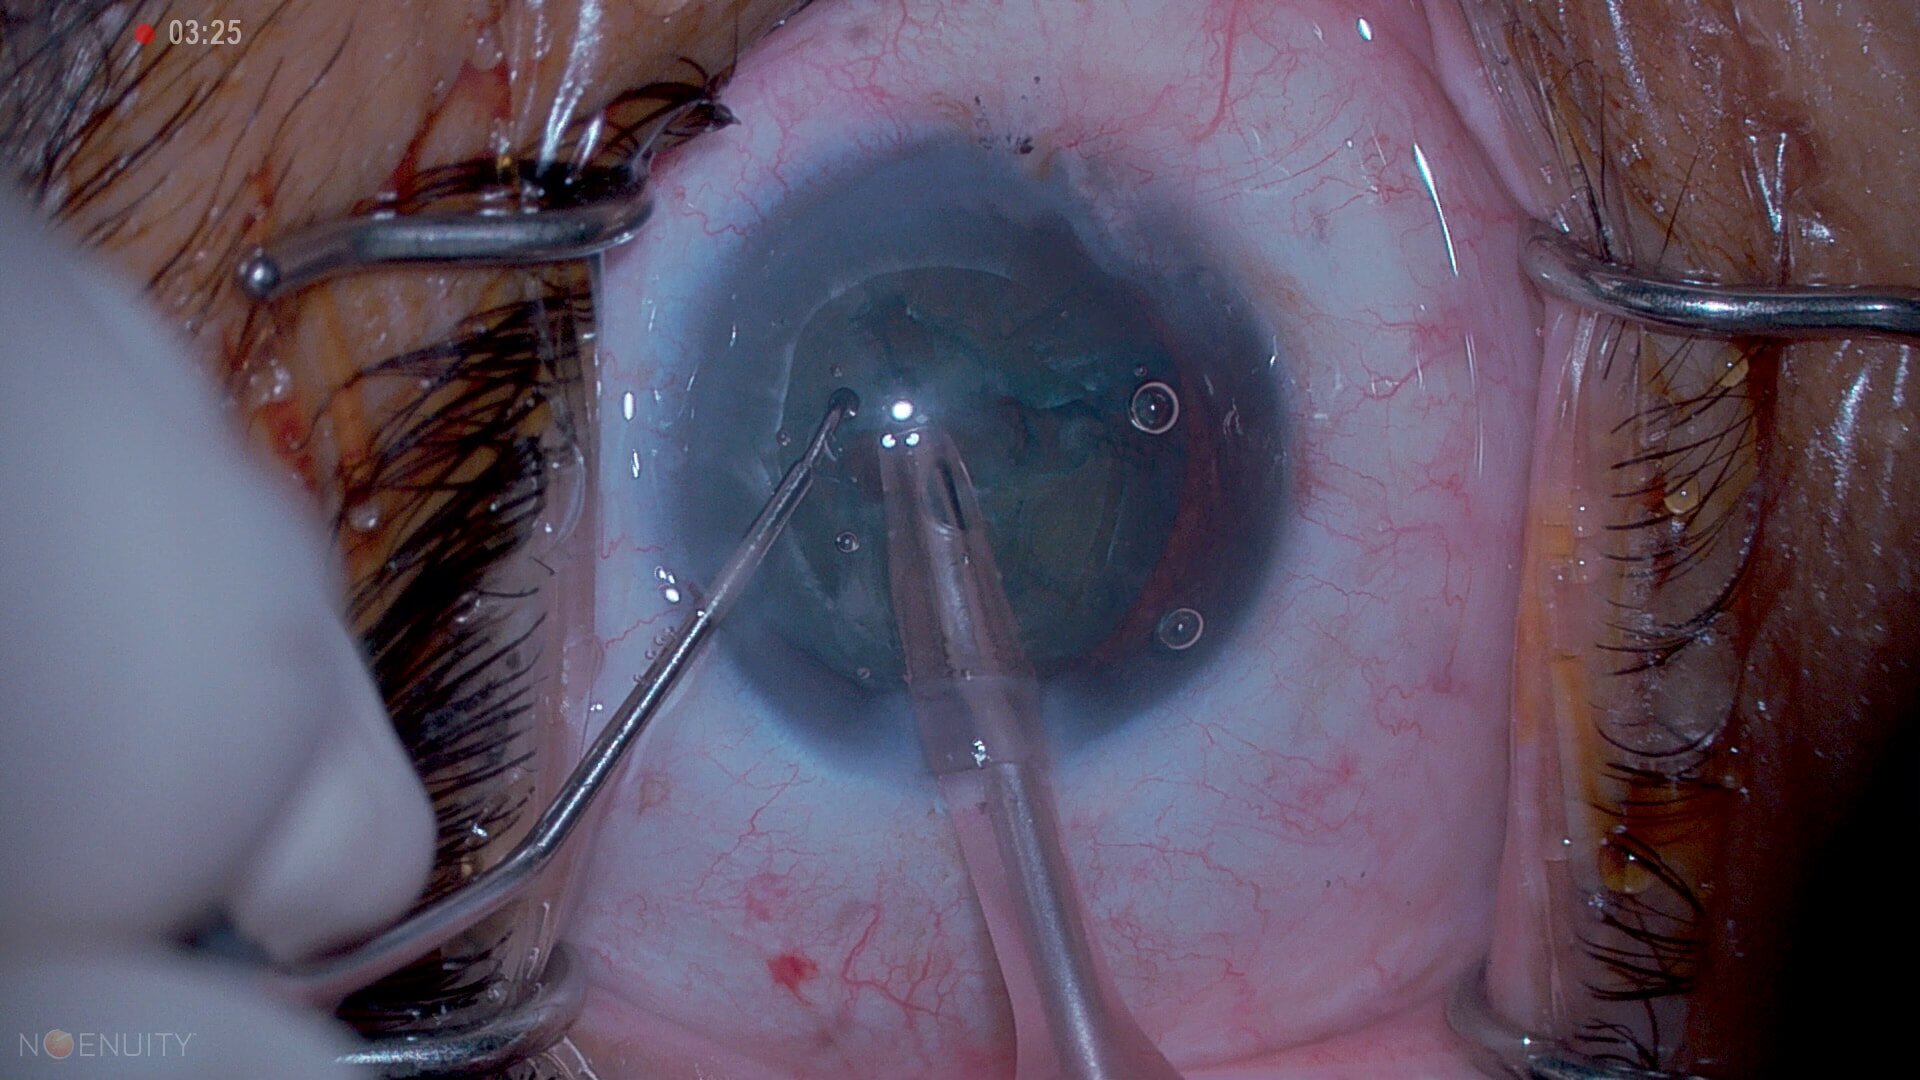iris: (699, 158, 1277, 773)
pupil: (788, 270, 1155, 661)
